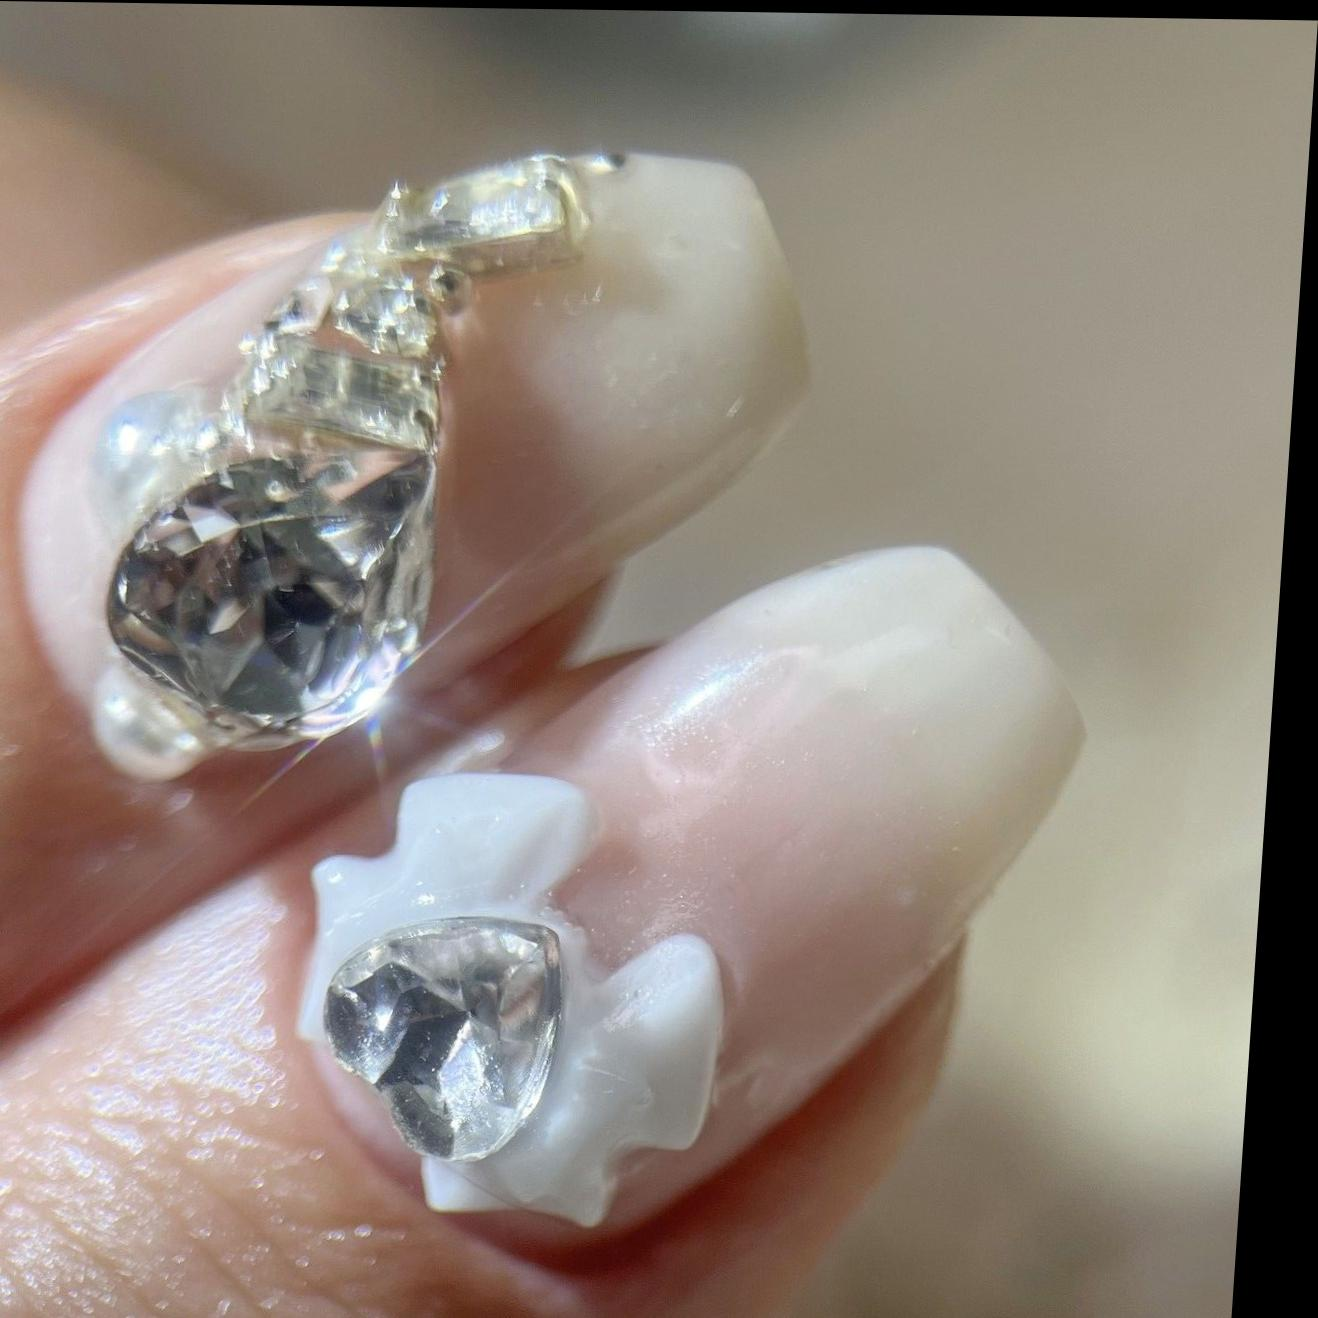nail: (281, 766, 741, 1230)
